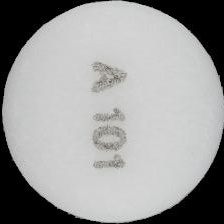33261-680: (0, 0, 224, 224)
